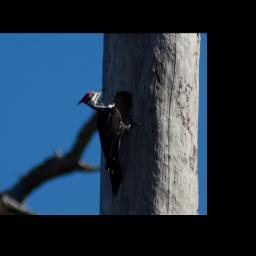Woodpecker: (77, 87, 143, 198)
